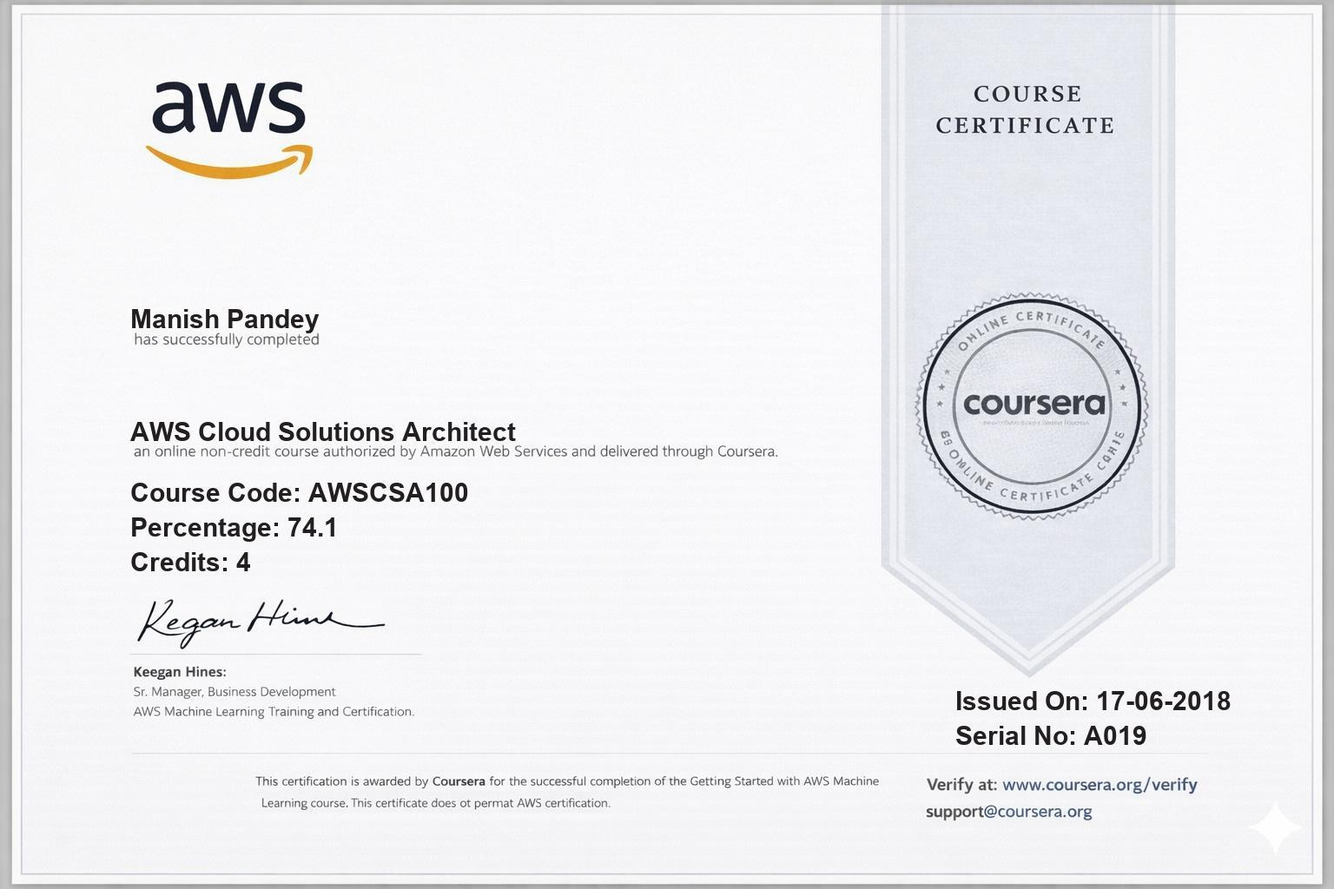Course Code: (304, 477, 477, 509)
Course Name: (120, 411, 523, 446)
Credits: (230, 543, 271, 578)
Issued On: (1089, 682, 1246, 719)
Percentage: (284, 511, 349, 547)
Serial No: (1080, 718, 1154, 763)
Student Name: (124, 297, 333, 335)
